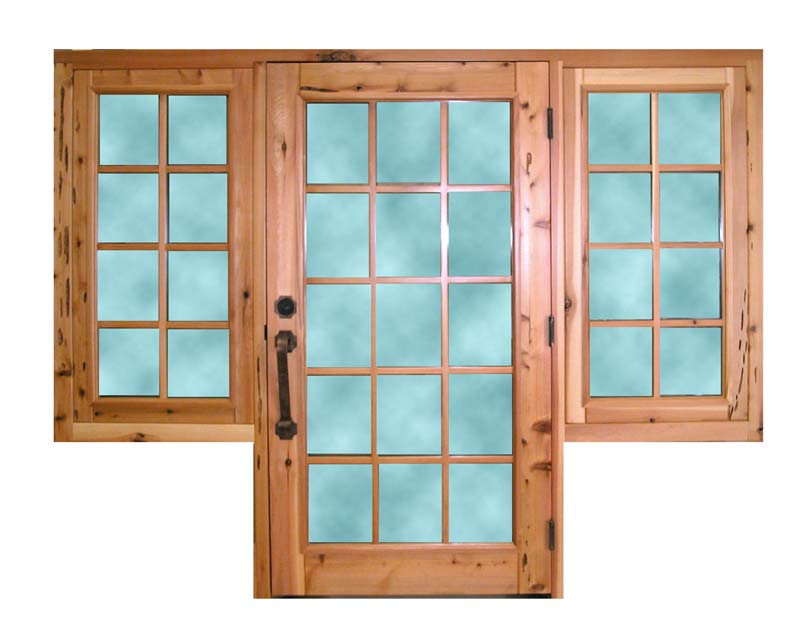windows: (54, 52, 760, 441)
